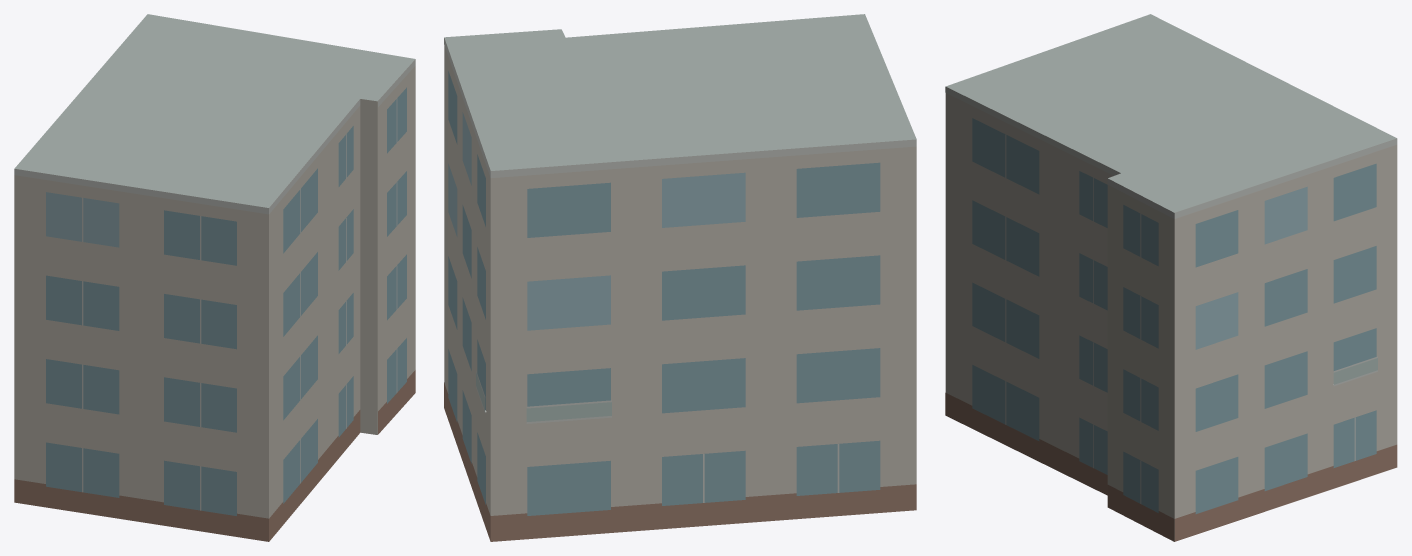
The model's file is survey-upis-32949193.glb.
3 renders of one model, left to right at view 1: azimuth 30°, elevation 25°; view 2: azimuth 150°, elevation 25°; view 3: azimuth 270°, elevation 25°, orthographic. The views are drawn at different scales.
Visible parts, largest first — view 1: survey-upis-32949193.tmp; view 2: survey-upis-32949193.tmp; view 3: survey-upis-32949193.tmp.
Boxes of the visible parts, bbox=[...] form: survey-upis-32949193.tmp: bbox=[14, 14, 415, 541]; survey-upis-32949193.tmp: bbox=[444, 14, 916, 541]; survey-upis-32949193.tmp: bbox=[945, 14, 1397, 541].
Size of the model in its own units: 16.6 by 12.8 by 15.94.
